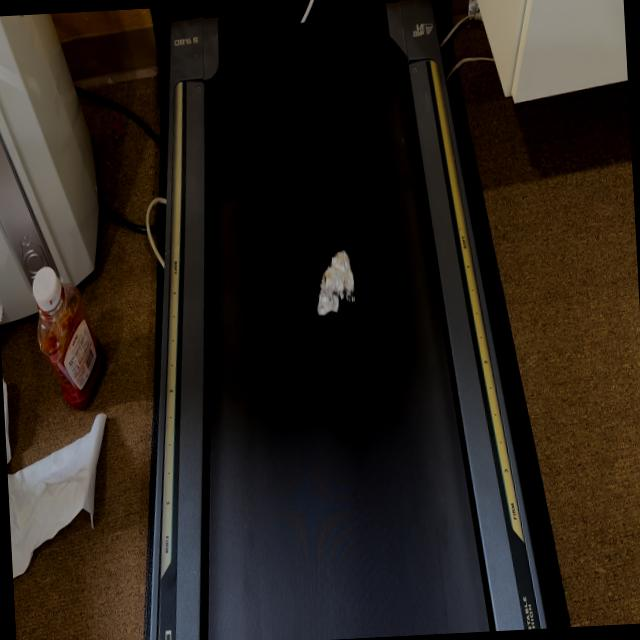Recycle: (313, 248, 358, 325)
